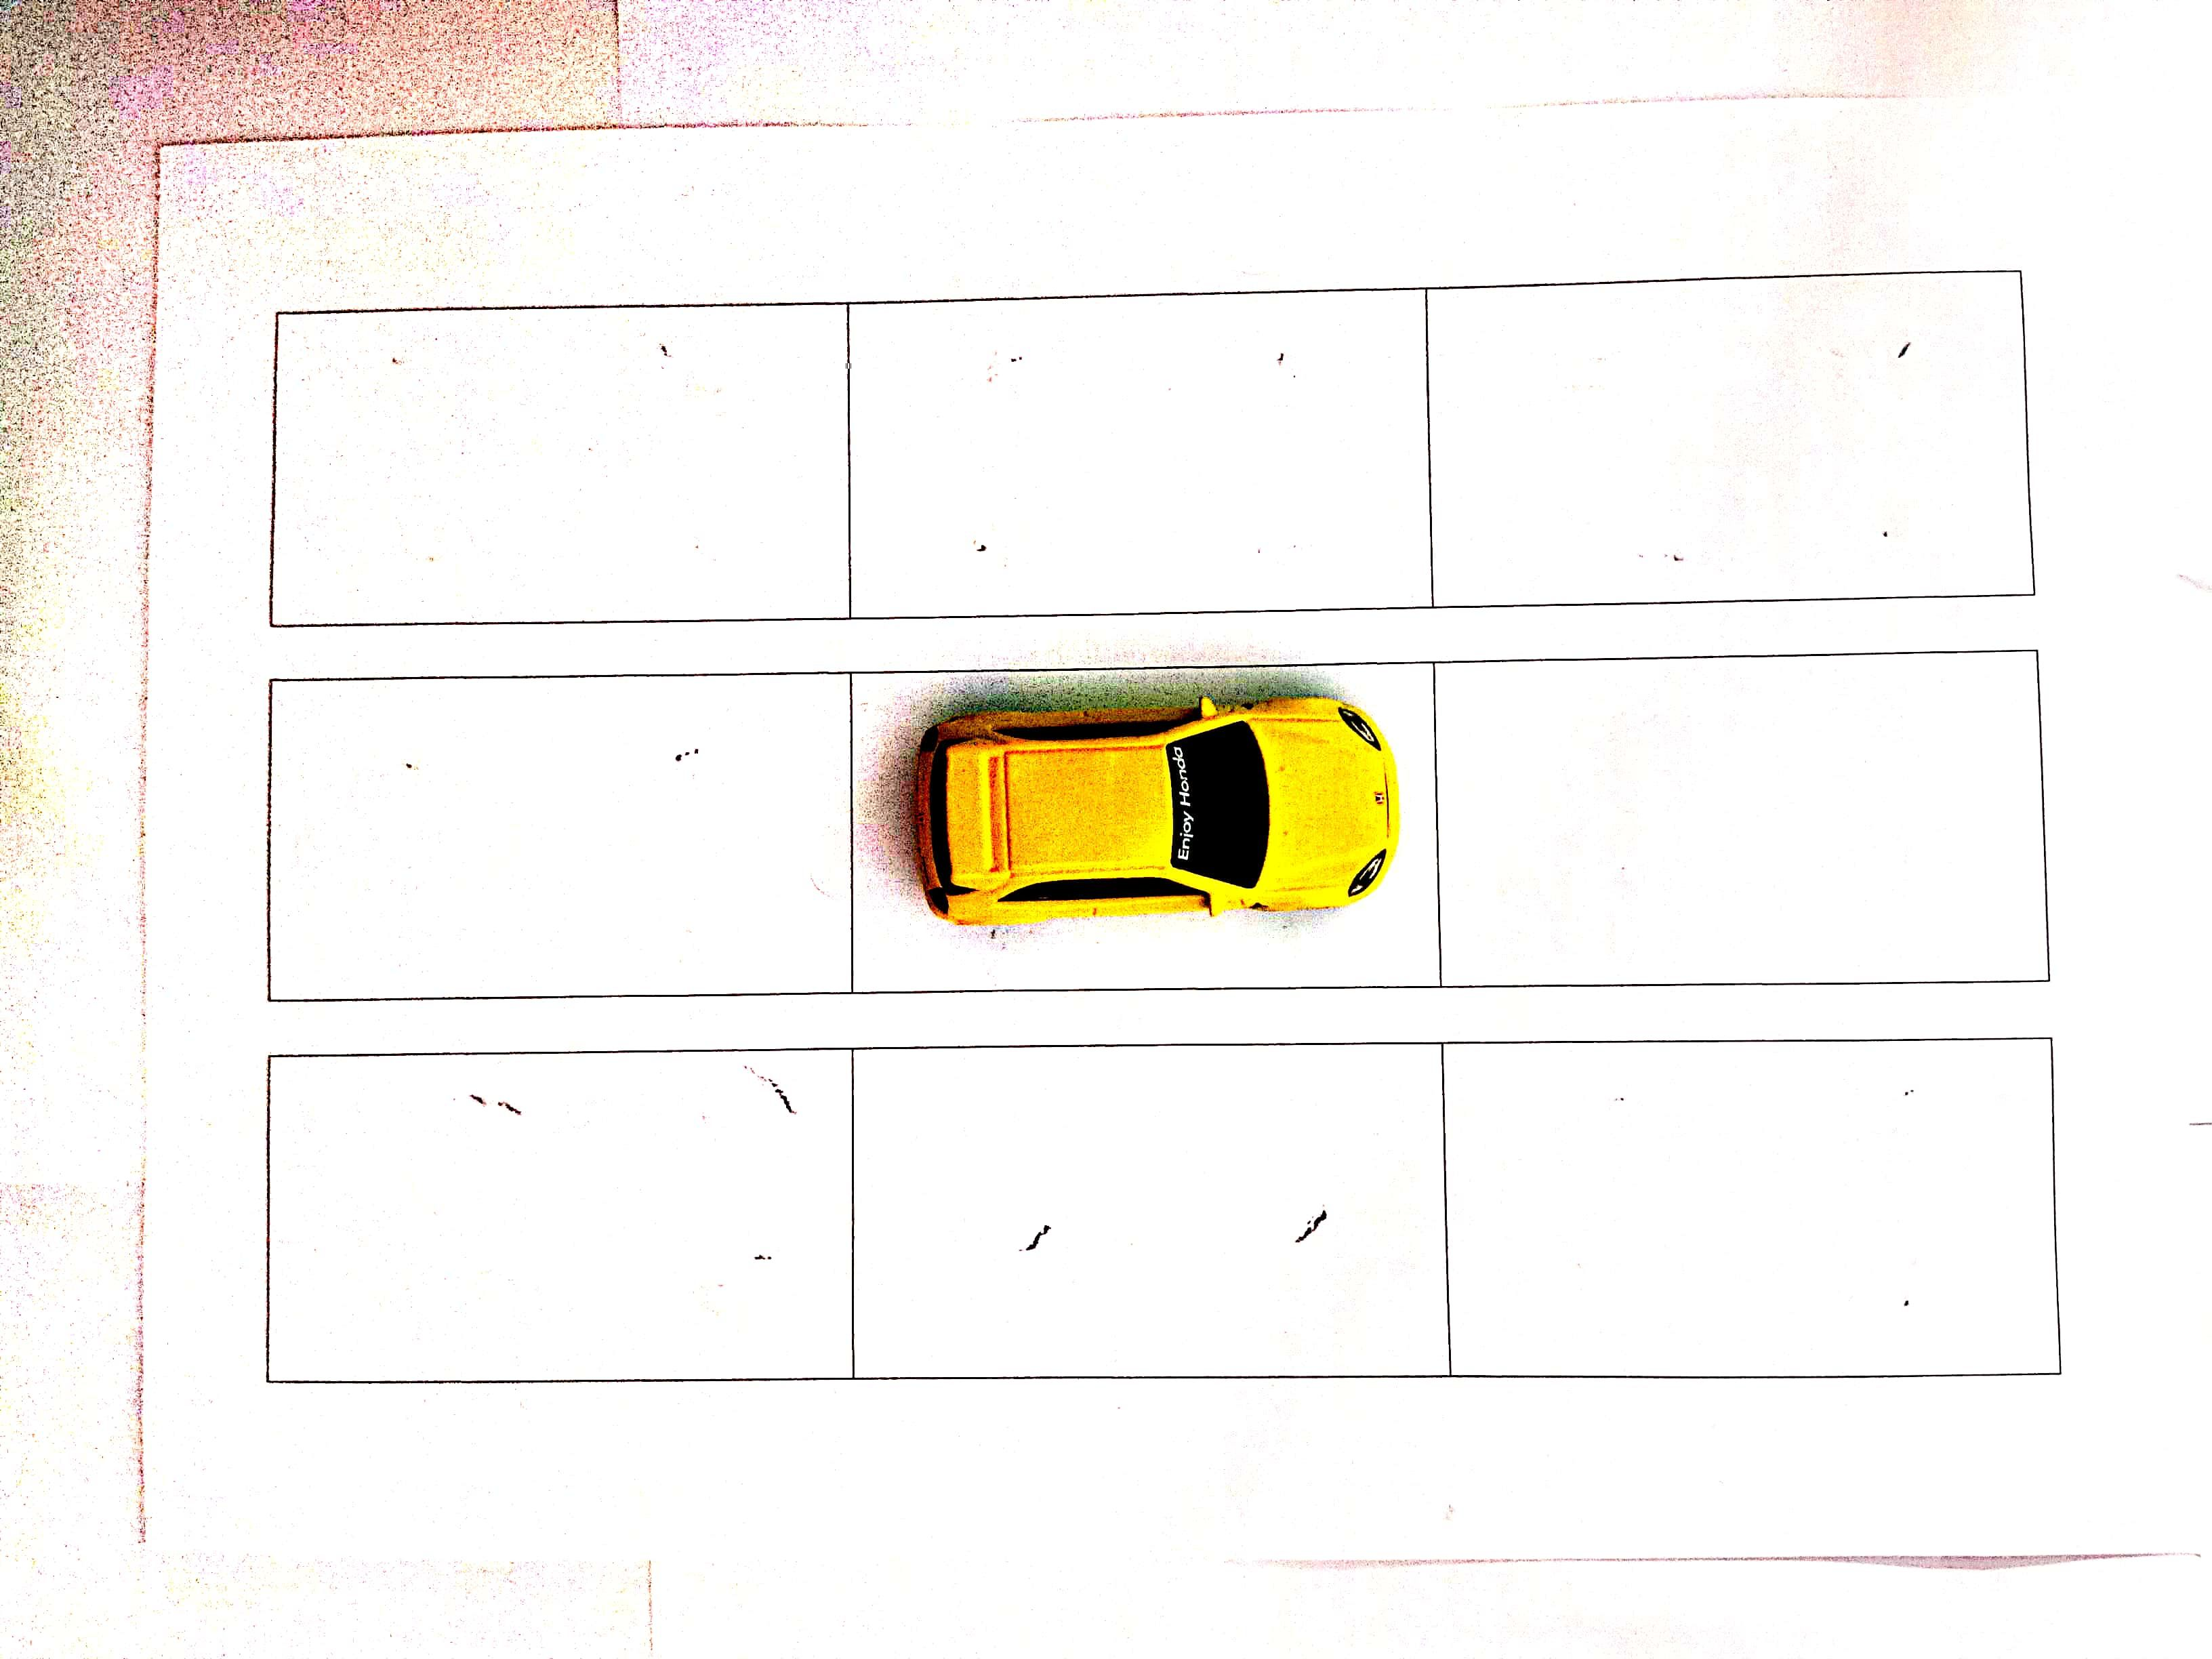Busy: (860, 666, 1432, 992)
Free: (852, 1040, 1446, 1375), (1442, 650, 2033, 983), (1451, 1037, 2045, 1366), (261, 1056, 848, 1384), (1433, 275, 2020, 603), (277, 683, 848, 1002), (270, 310, 845, 622), (853, 300, 1423, 613)
